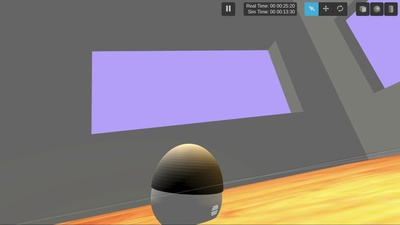mira_robot: (151, 143, 224, 224)
